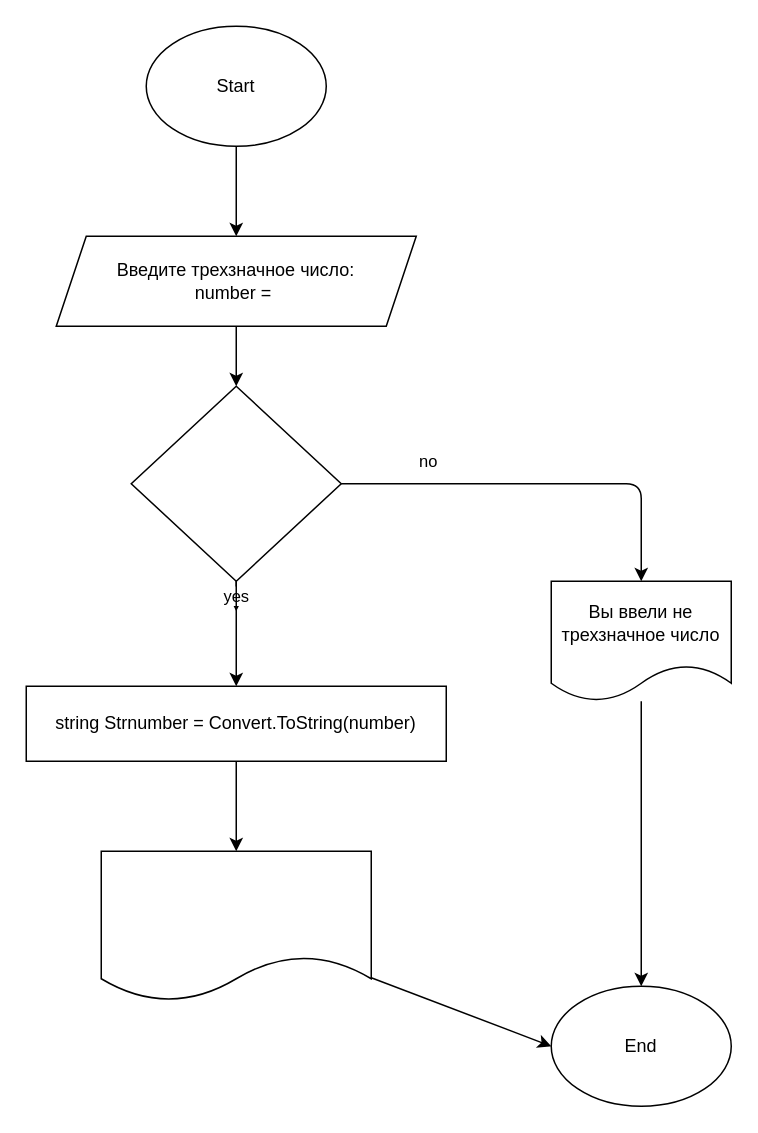
Image size: 758x1133. Some labels were removed from this diagram. The centre of each missing label's shape, as x and y in pixels:
"number > 99 && number < 1000" belongs at point 235,483.
"Вторая цифра этого числа равна - Strnumber[1]" belongs at point 235,925.
